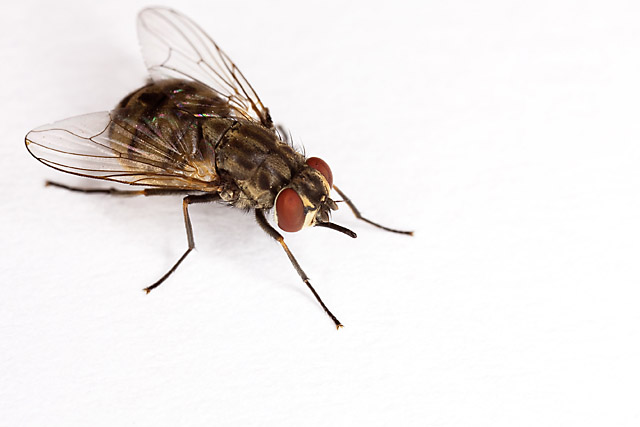green bottles fly: (14, 4, 448, 324)
